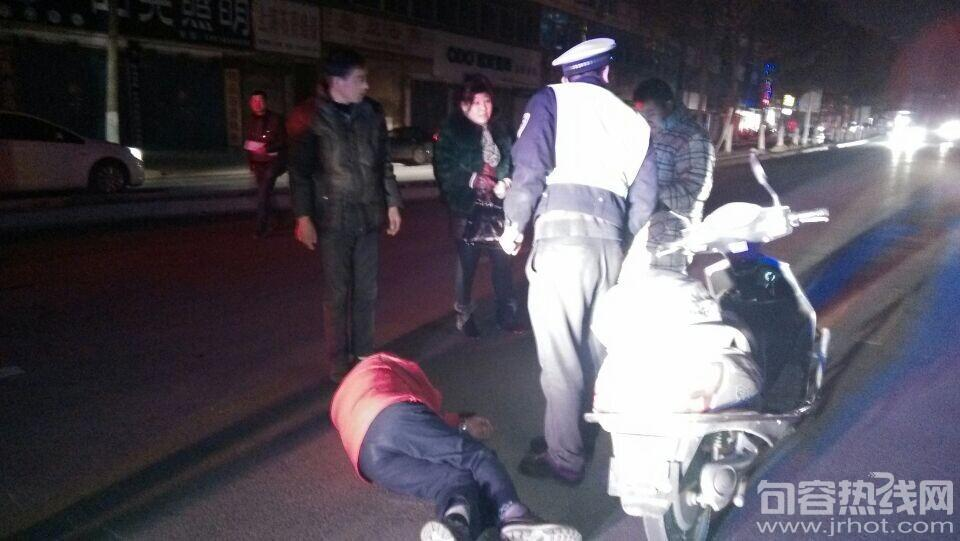Fall-Detected: (329, 336, 594, 539)
